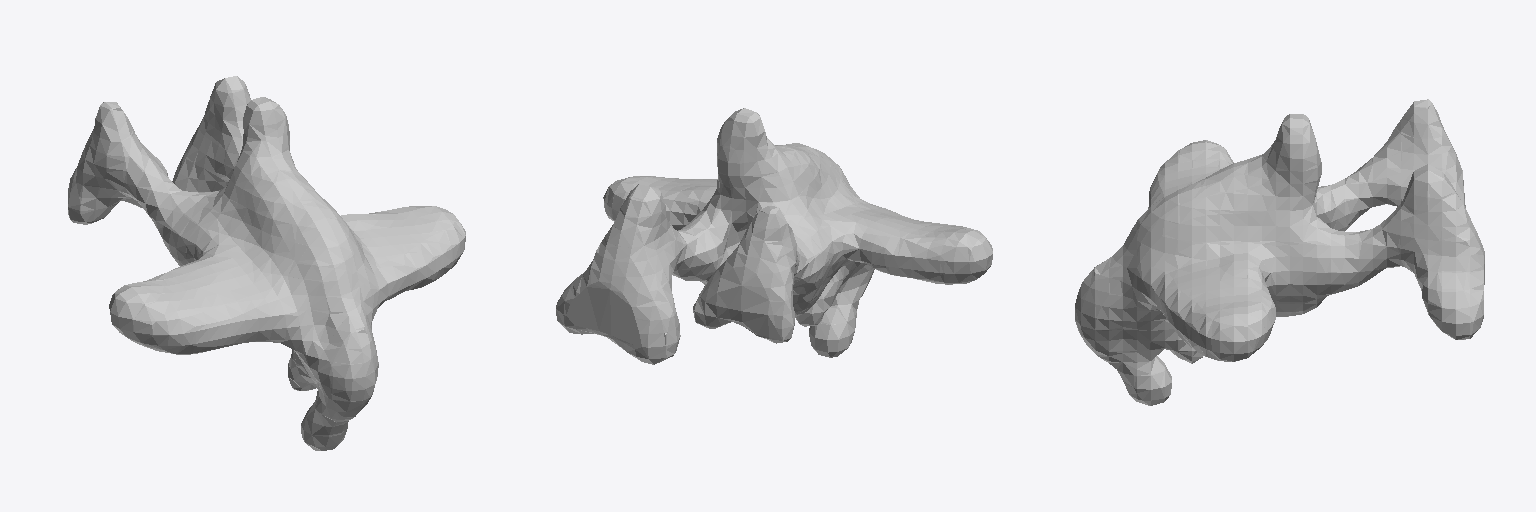
File: 03_simplified.obj
3 renders of one model, left to right at view 1: azimuth 30°, elevation 25°; view 2: azimuth 150°, elevation 25°; view 3: azimuth 270°, elevation 25°, orthographic.
Size of the model in its own units: 0.1102 by 0.0846 by 0.1072.